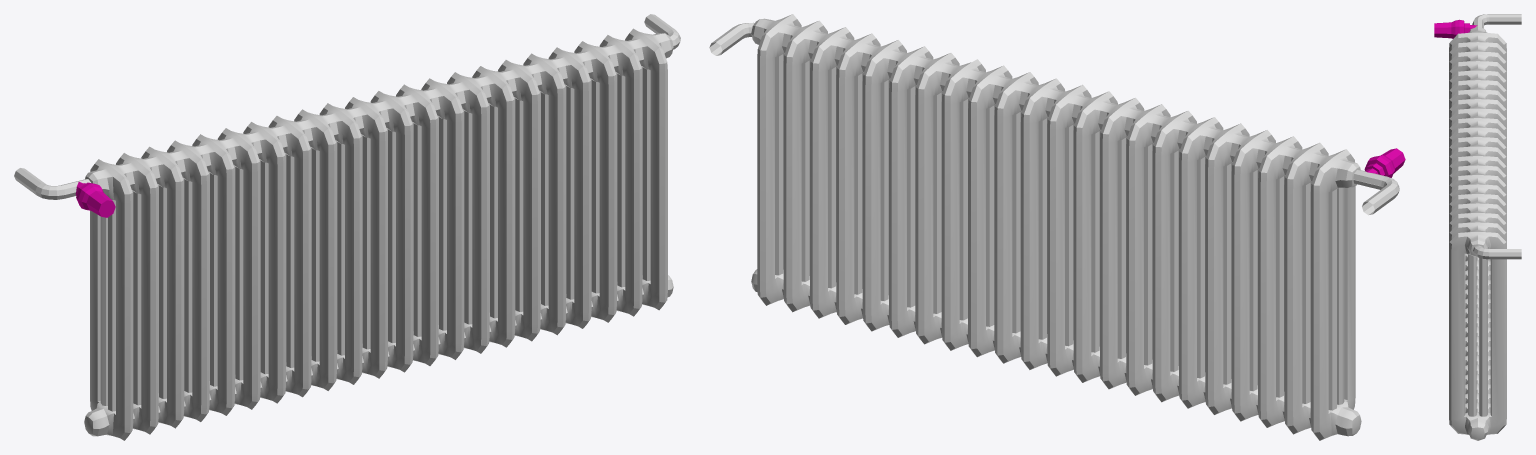
File: topeni.fbx
3 views of the same model, side by side, from view 1: azimuth 30°, elevation 25°; view 2: azimuth 150°, elevation 25°; view 3: azimuth 270°, elevation 25° (orthographic). The views are drawn at different scales.
Parts seen in each view (by area): view 1: Topeni; view 2: Topeni; view 3: Topeni.
Part boxes in pixels (left/top/right/bottom): Topeni: left=14, top=14, right=680, bottom=440; Topeni: left=709, top=14, right=1405, bottom=440; Topeni: left=1434, top=14, right=1521, bottom=440.
Bounding box in the file's own units: 152 × 59.94 × 23.34.
